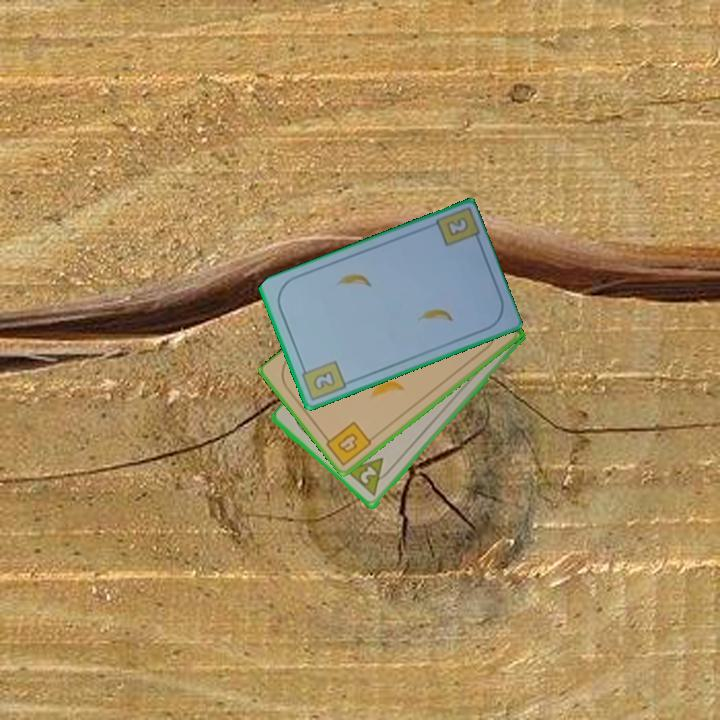2b: (297, 357, 349, 403), (442, 213, 471, 239)
2p: (343, 454, 396, 500)
4b: (320, 418, 375, 468)
